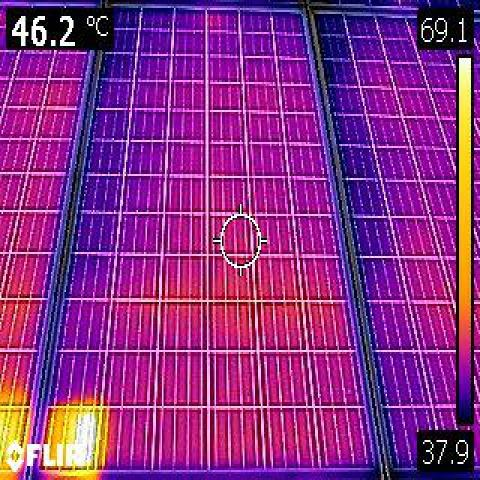fault: (38, 407, 104, 477)
